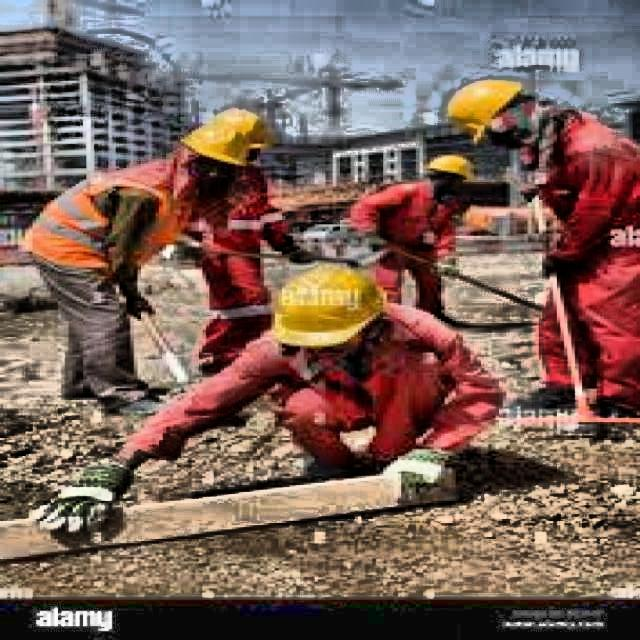bull_dozer/loader/grader: (249, 70, 405, 134)
person: (28, 266, 506, 538), (446, 77, 640, 441), (22, 118, 248, 416), (197, 108, 316, 372), (351, 154, 474, 322)
